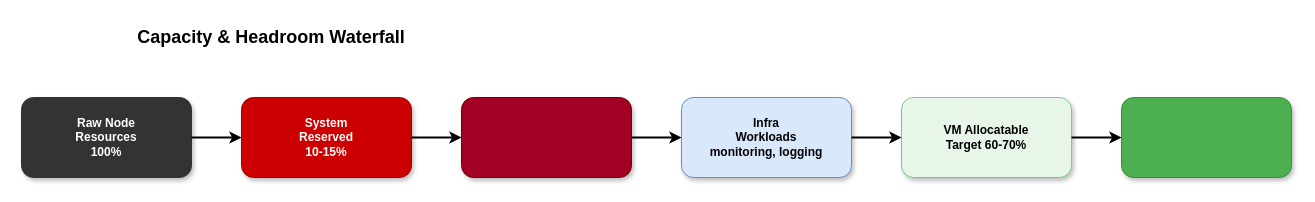
This 1315x202 diagram has some shape labels left out. Here are the shapes that lost their labels. From the top down, the centre of each, then its label:
At point (547, 138): "ODF Reserved (storage nodes)".
At point (1207, 138): "Headroom 1-3 spare nodes".
